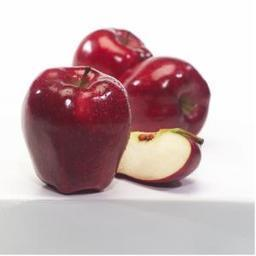apple: (22, 66, 130, 192), (123, 56, 210, 137), (72, 27, 153, 85)
